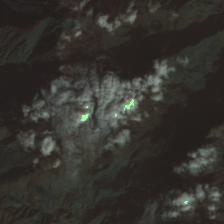landslides: (66, 19, 99, 45), (38, 26, 60, 41), (111, 36, 122, 49)
